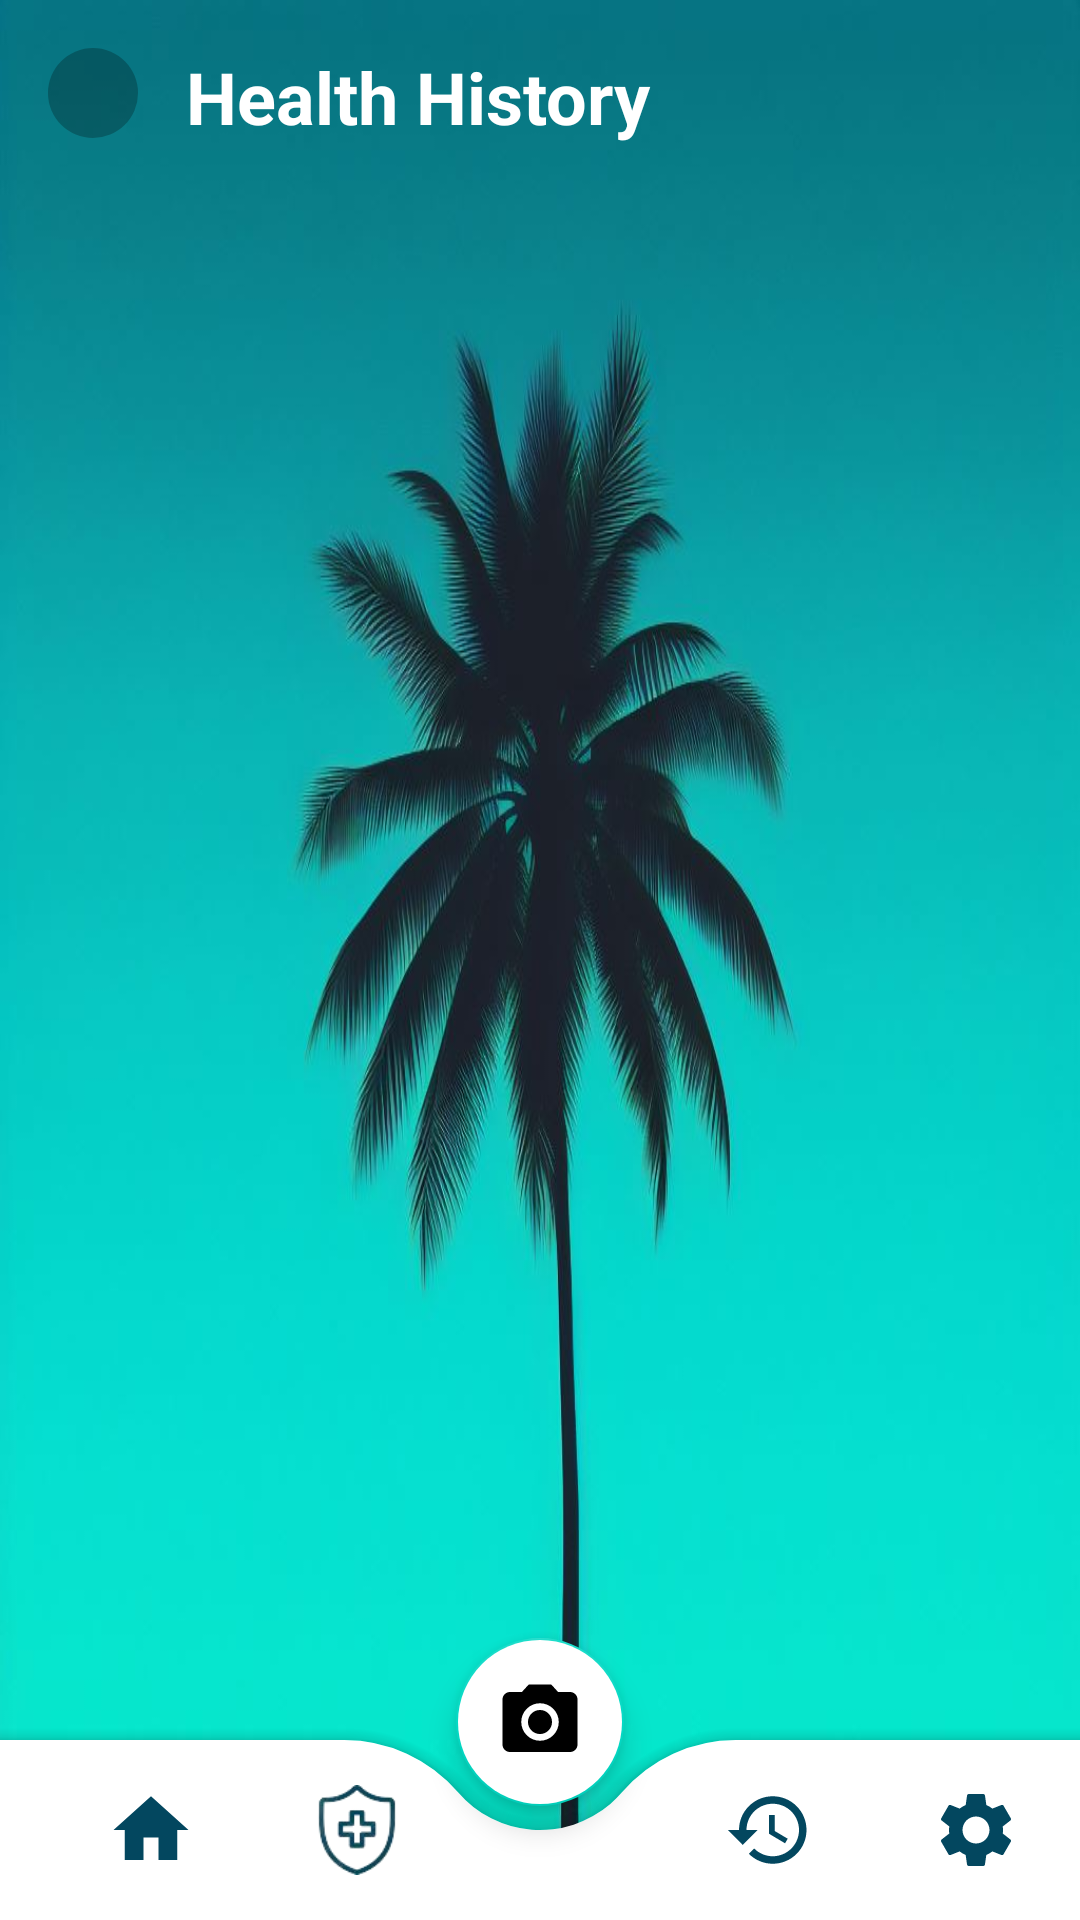

Point at icon controls on the screen. Image size 1080w x 1920h, points as (x,y).
camera: (540,1740)
diagnose: (357,1830)
history: (767,1830)
home: (151,1828)
settings: (976,1830)
